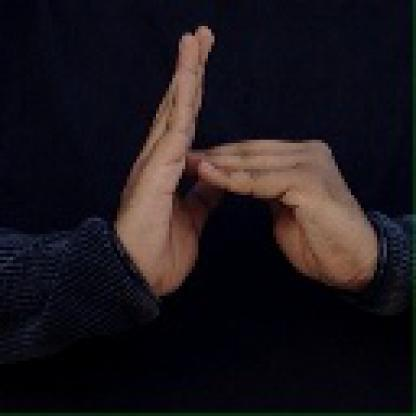Z: (124, 25, 360, 285)
